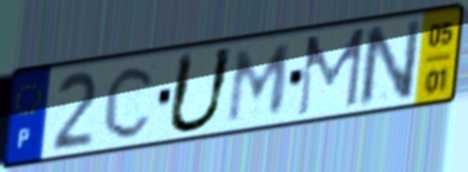2: (50, 68, 102, 155)
C: (101, 62, 160, 142)
M: (294, 24, 368, 121), (223, 40, 296, 126)
N: (356, 15, 425, 112)
U: (163, 44, 238, 137)
